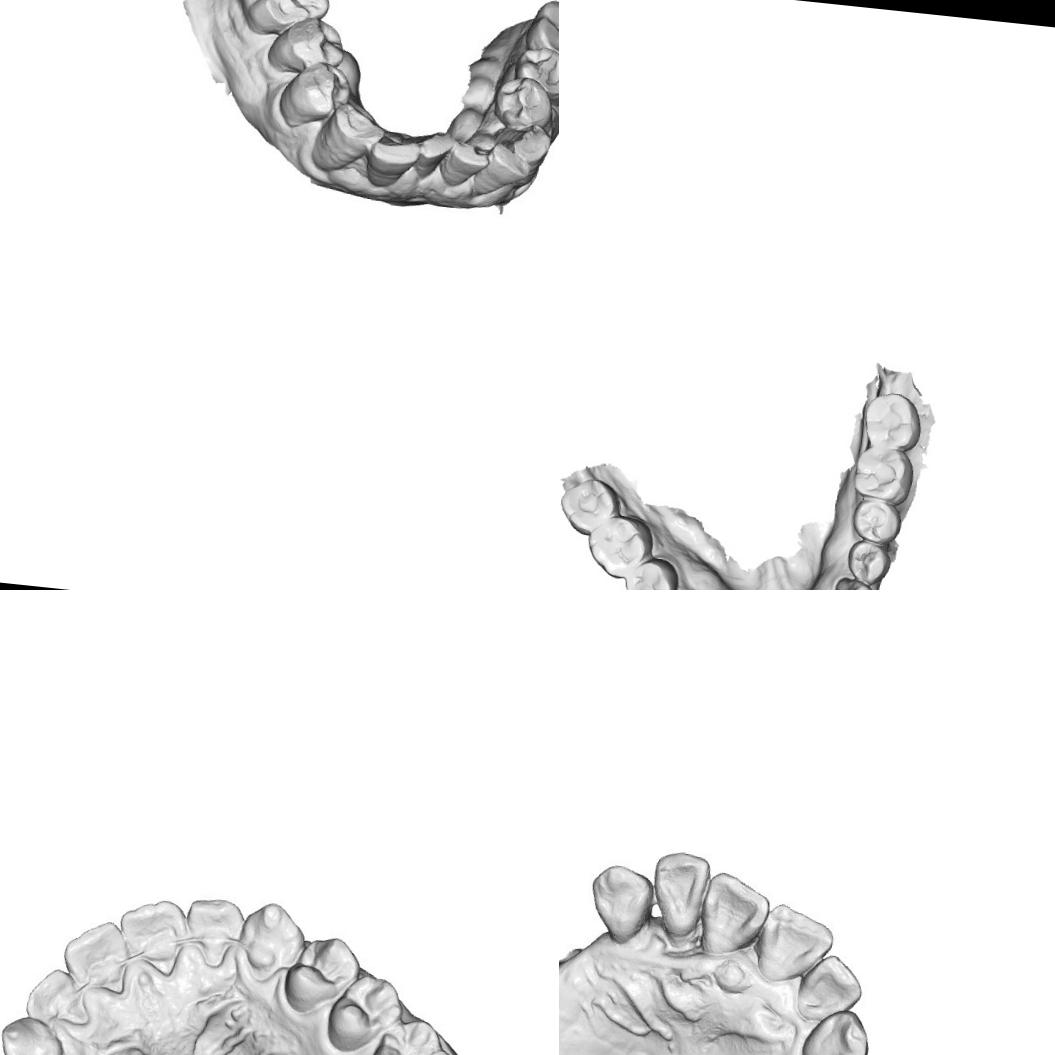canine: (236, 898, 310, 988), (586, 860, 658, 946), (308, 100, 383, 176), (798, 1003, 874, 1055), (490, 123, 556, 170), (0, 1012, 67, 1055), (830, 575, 877, 590)
incisor: (753, 900, 838, 989), (694, 868, 775, 961), (58, 916, 134, 998), (647, 848, 714, 940), (791, 949, 867, 1028), (115, 895, 188, 973), (181, 894, 247, 968), (23, 964, 94, 1028), (476, 144, 534, 205), (367, 130, 421, 192), (441, 136, 489, 196), (414, 128, 453, 184)
molar: (582, 510, 657, 582), (355, 1013, 463, 1055), (559, 472, 625, 540), (858, 389, 926, 452), (849, 444, 917, 506), (238, 0, 330, 39), (530, 0, 559, 70)
premolar: (280, 932, 364, 1019), (324, 971, 407, 1055), (265, 9, 349, 82), (277, 60, 350, 133), (488, 76, 558, 131), (848, 496, 904, 546), (512, 44, 559, 102), (843, 538, 892, 588), (620, 553, 682, 590)
